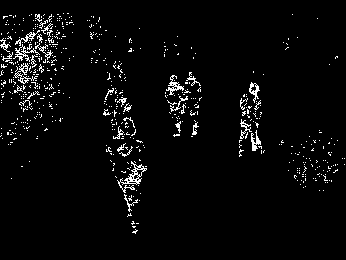person: (108, 116, 148, 235), (242, 81, 267, 157), (182, 68, 204, 138), (165, 74, 185, 138)
